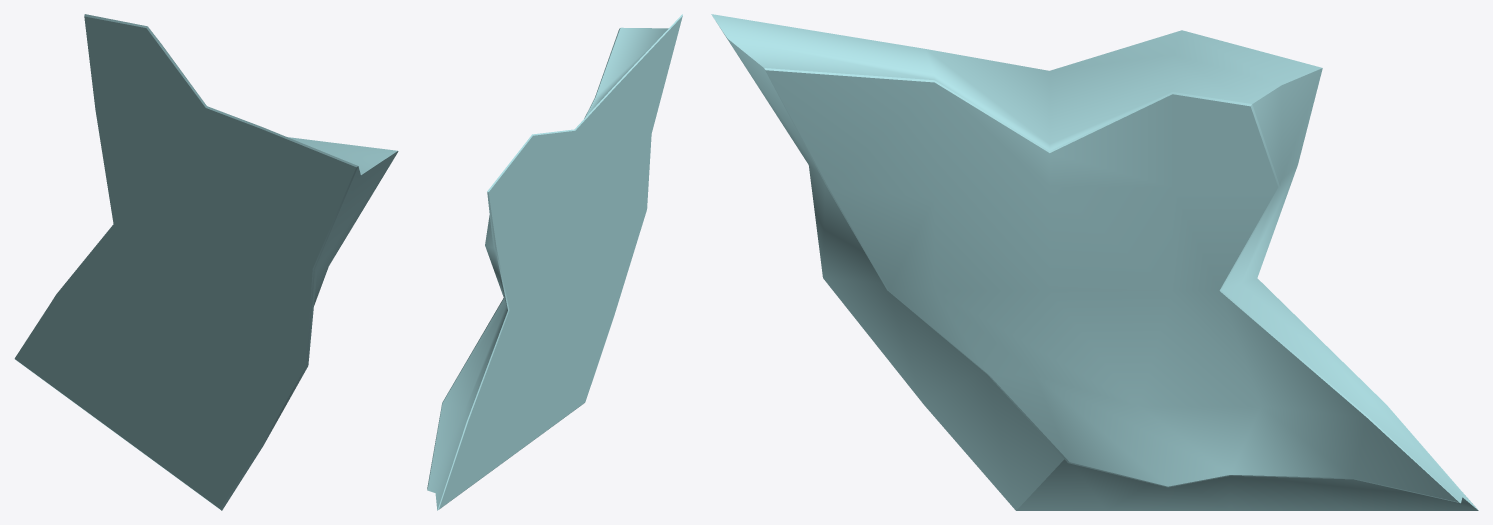
Rendered from IceSheet_03.fbx.
3 views of the same model, side by side, from view 1: azimuth 30°, elevation 25°; view 2: azimuth 150°, elevation 25°; view 3: azimuth 270°, elevation 25° (orthographic). The views are drawn at different scales.
Visible parts, largest first — view 1: IceSheet_03; view 2: IceSheet_03; view 3: IceSheet_03.
Boxes of the visible parts, <box> form: IceSheet_03: <box>14,14,398,510</box>; IceSheet_03: <box>427,14,682,510</box>; IceSheet_03: <box>711,14,1478,510</box>.
Bounding box in the file's own units: 1324 × 8569 × 11998.
